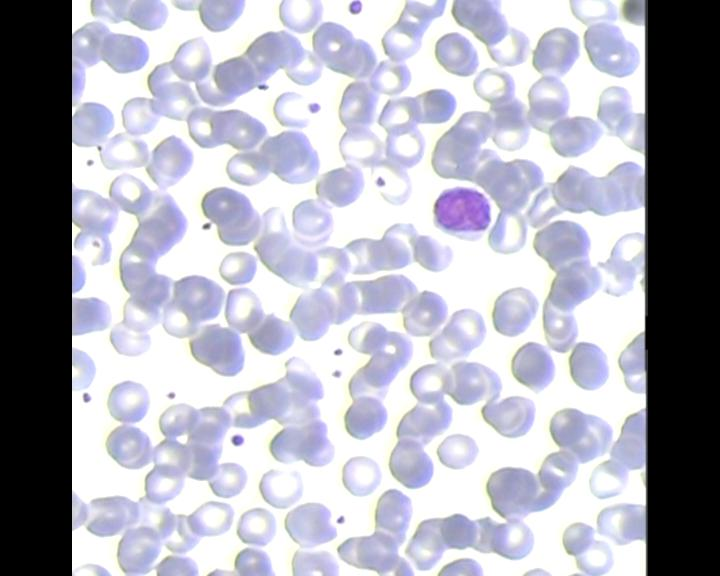lymp: (424, 186, 494, 244)
